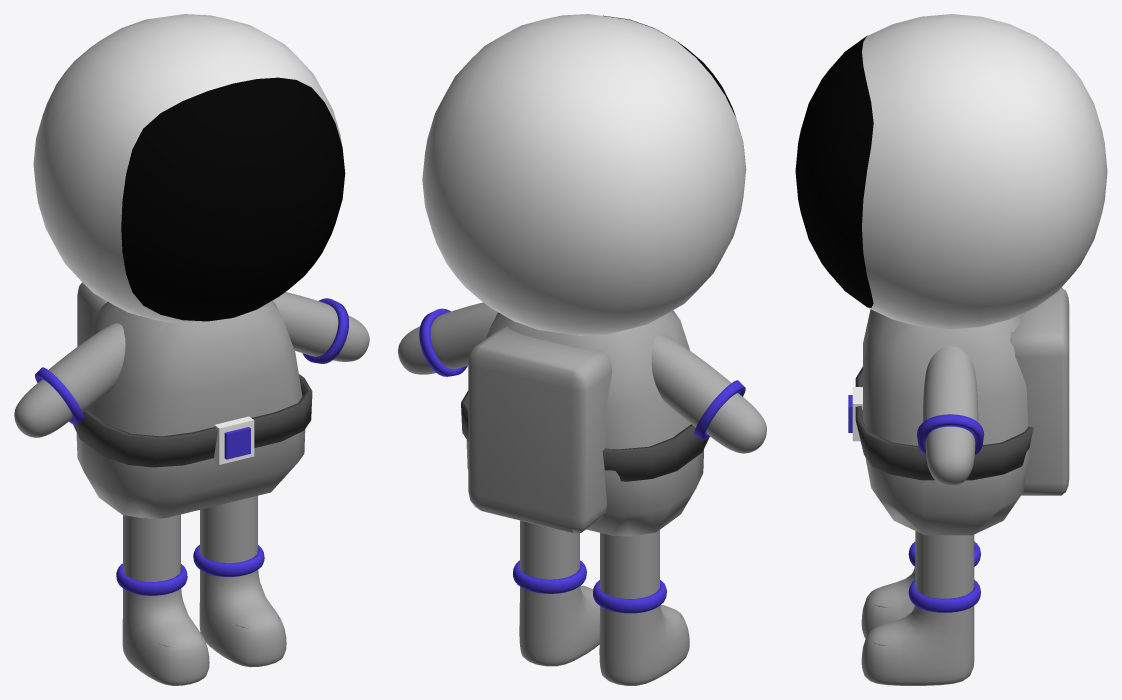
The model's file is Astronauta3D.fbx.
3 renders of one model, left to right at view 1: azimuth 30°, elevation 25°; view 2: azimuth 150°, elevation 25°; view 3: azimuth 270°, elevation 25°, orthographic. The views are drawn at different scales.
Parts seen in each view (by area): view 1: Cube.021, Cube.022, Cube.020, Cube.033, Cube.031, Cube.018, Cube.015, Cube.012, Cube.013, Cube.032, Cube.034, Cube.019 (+5 smaller); view 2: Cube.022, Cube.019, Cube.020, Cube.033, Cube.031, Cube.015, Cube.018, Cube.012, Cube.013, Cube.034, Cube.032, Cube.029 (+2 smaller); view 3: Cube.022, Cube.020, Cube.021, Cube.031, Cube.019, Cube.018, Cube.012, Cube.030, Cube.033, Cube.029, Cube.032.
Part boxes in pixels (left/top/right/bottom): Cube.021: left=121, top=77, right=345, bottom=321; Cube.022: left=33, top=14, right=345, bottom=323; Cube.020: left=76, top=284, right=305, bottom=518; Cube.033: left=122, top=514, right=209, bottom=685; Cube.031: left=199, top=495, right=286, bottom=667; Cube.018: left=73, top=374, right=312, bottom=467; Cube.015: left=49, top=323, right=125, bottom=412; Cube.012: left=273, top=292, right=338, bottom=356; Cube.013: left=14, top=379, right=72, bottom=437; Cube.032: left=193, top=545, right=264, bottom=576; Cube.034: left=116, top=563, right=187, bottom=595; Cube.019: left=77, top=282, right=107, bottom=346; Cube.022: left=422, top=14, right=745, bottom=335; Cube.019: left=468, top=327, right=612, bottom=533; Cube.020: left=466, top=310, right=703, bottom=536; Cube.033: left=599, top=530, right=689, bottom=685; Cube.031: left=519, top=520, right=599, bottom=666; Cube.015: left=651, top=334, right=731, bottom=427; Cube.018: left=461, top=390, right=709, bottom=481; Cube.012: left=430, top=302, right=497, bottom=368; Cube.013: left=706, top=393, right=766, bottom=453; Cube.034: left=593, top=580, right=666, bottom=613; Cube.032: left=513, top=560, right=586, bottom=593; Cube.029: left=419, top=308, right=467, bottom=376; Cube.022: left=862, top=14, right=1107, bottom=329; Cube.020: left=863, top=309, right=1029, bottom=535; Cube.021: left=795, top=35, right=873, bottom=307; Cube.031: left=861, top=531, right=974, bottom=685; Cube.019: left=1010, top=287, right=1069, bottom=495; Cube.018: left=855, top=367, right=1033, bottom=480; Cube.012: left=922, top=345, right=978, bottom=422; Cube.030: left=925, top=426, right=975, bottom=485; Cube.033: left=861, top=567, right=915, bottom=638; Cube.029: left=917, top=414, right=984, bottom=454; Cube.032: left=908, top=580, right=980, bottom=612.
Bounding box in the file's own units: 116 × 195 × 87.94.
